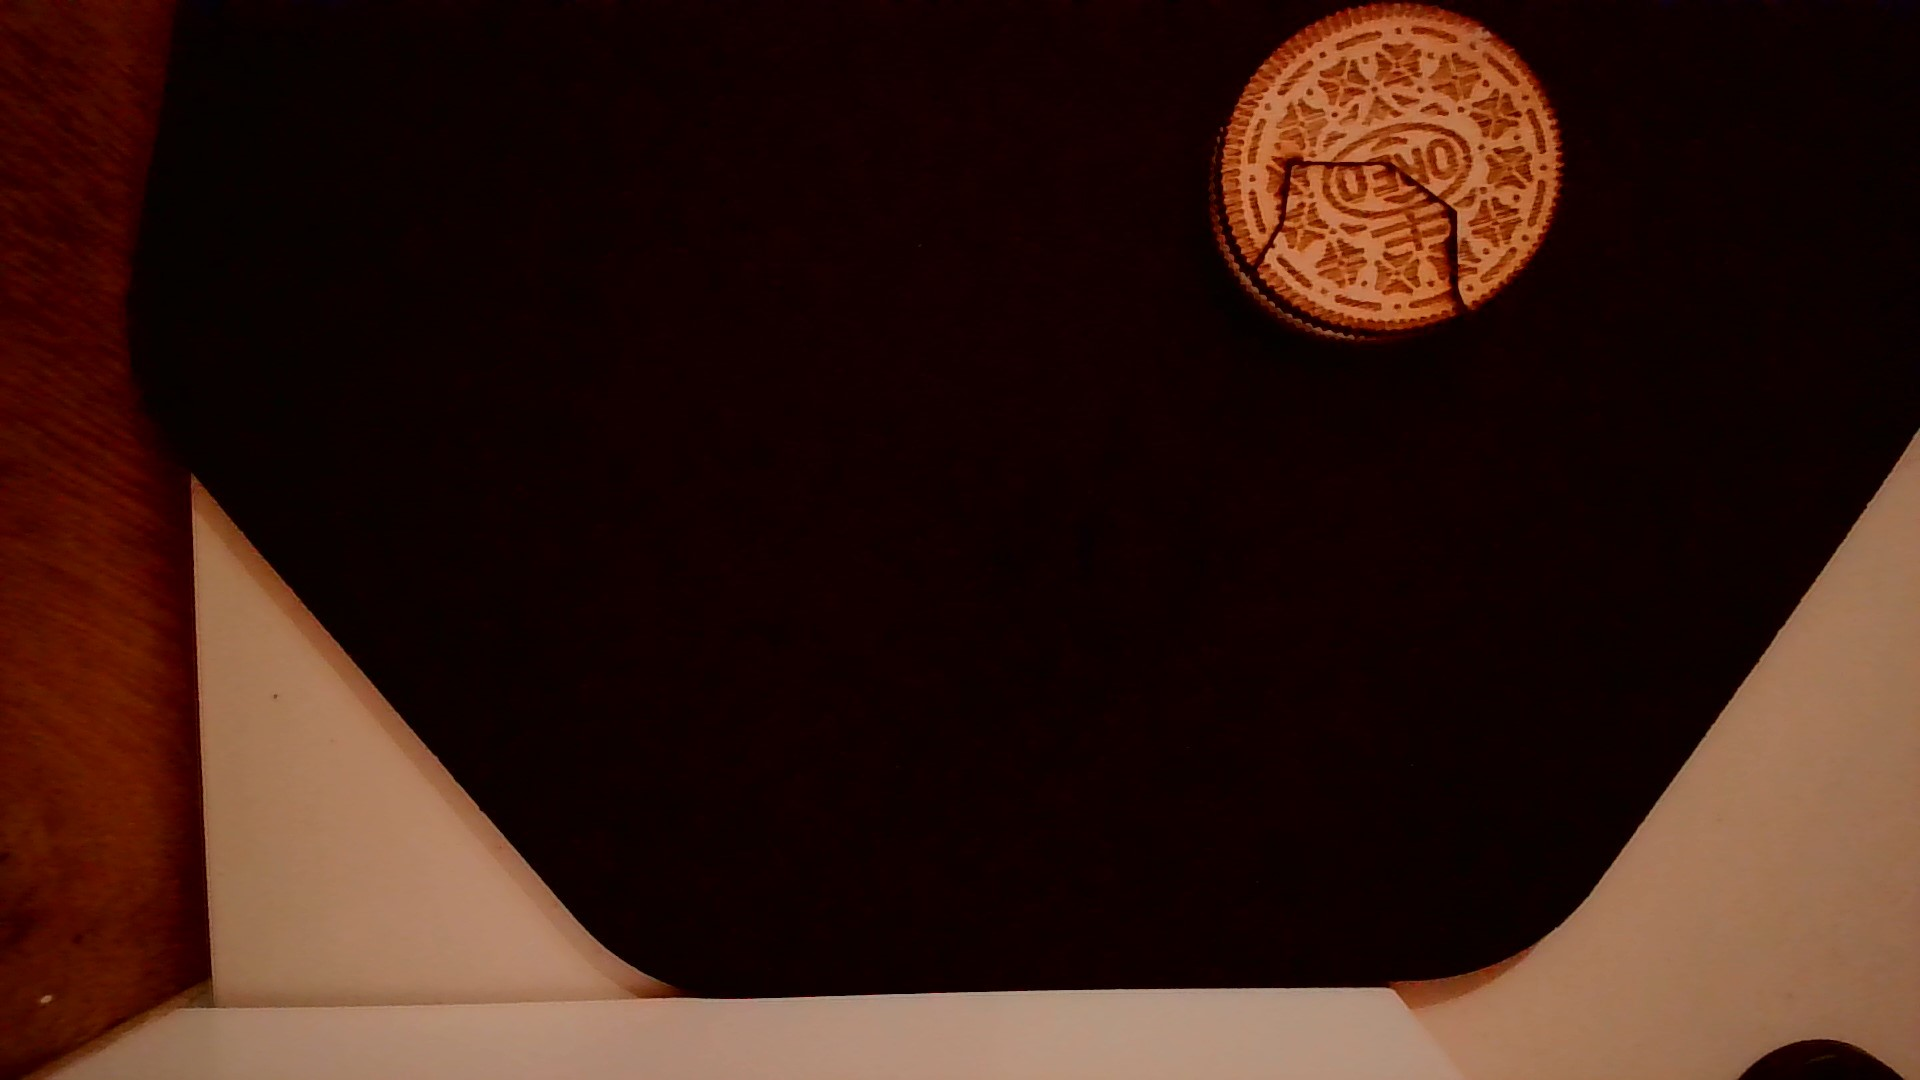Fissure: (1240, 152, 1478, 335)
Oréo: (1195, 0, 1568, 348)
